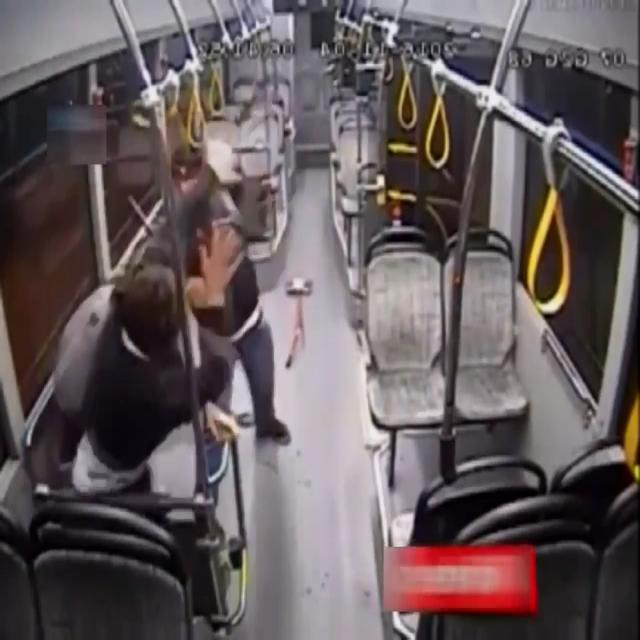fight: (96, 138, 256, 524)
